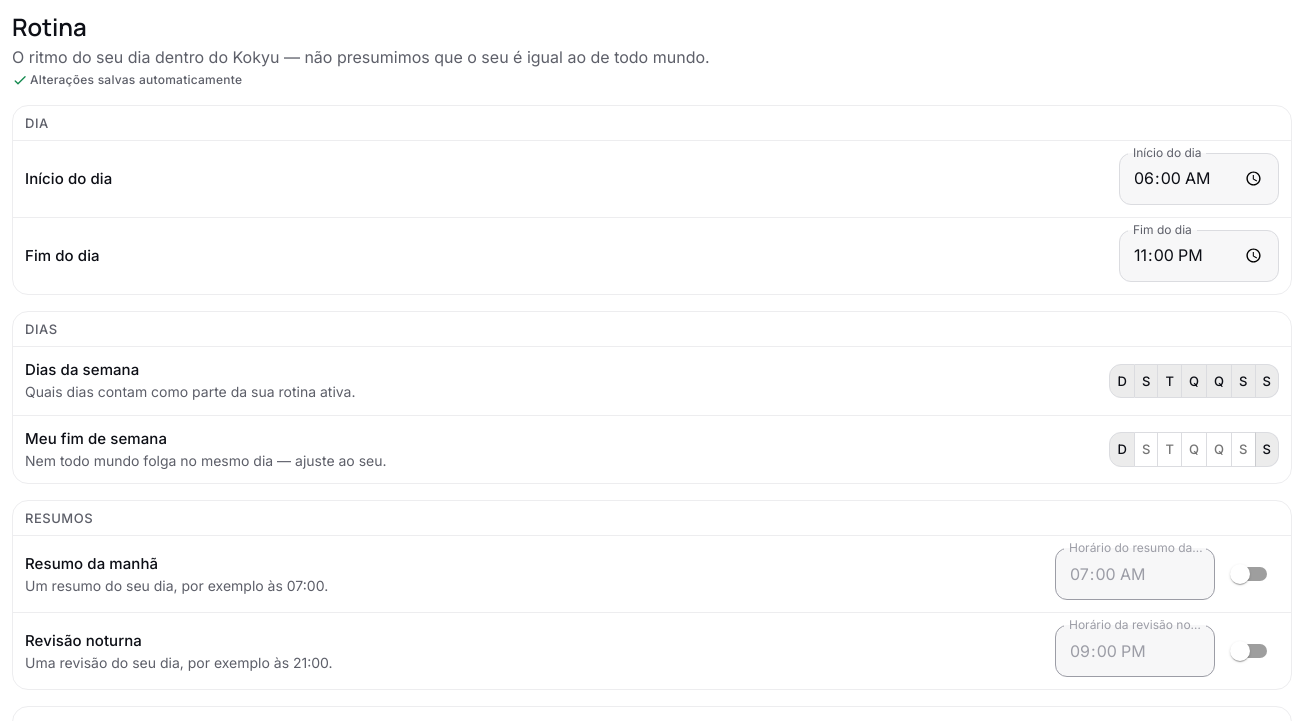
Test: RoutineSettings › "Revisão noturna" starts off with its time field disabled, enabling it when turned on
Expected: the time field labelled "Horário da revisão noturna" is disabled, x1=1055 y1=626 x2=1215 y2=677
Click the switch named "Revisão noturna". click: [1240, 651]
box: x1=1230 y1=641 x2=1250 y2=661
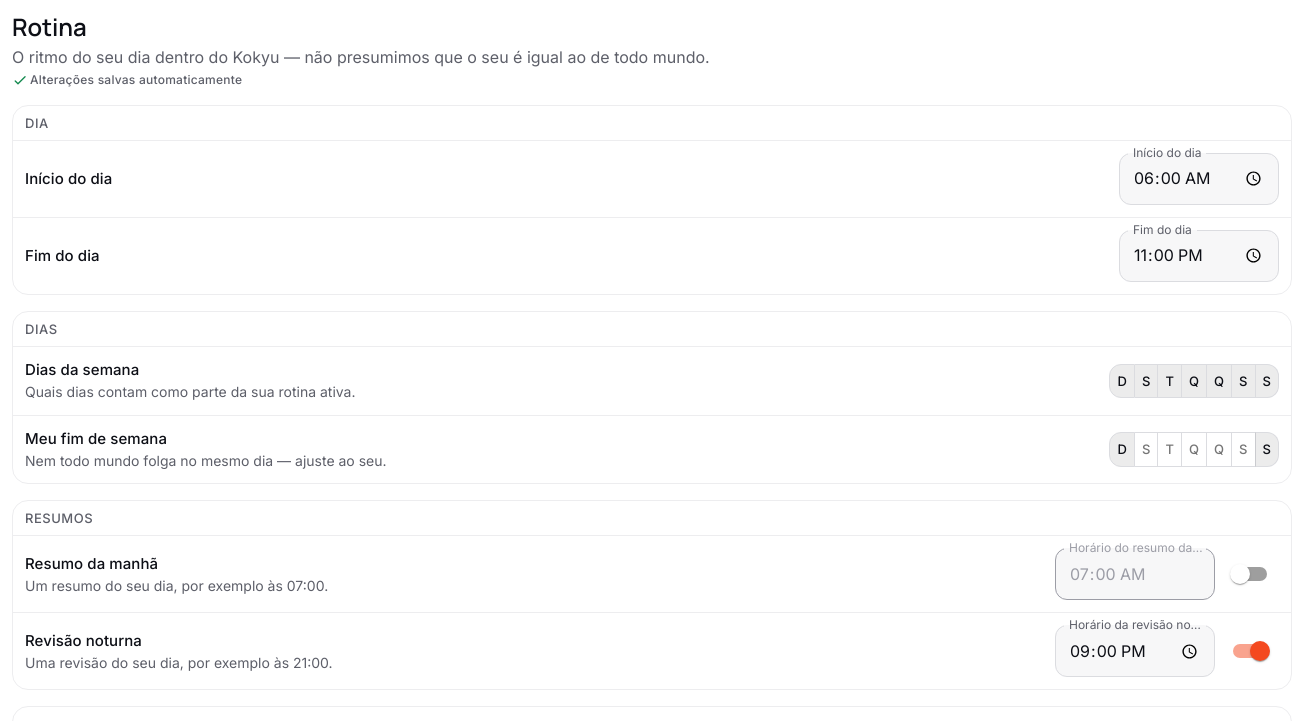
Expected: the time field labelled "Horário da revisão noturna" is enabled, x1=1055 y1=626 x2=1215 y2=677
